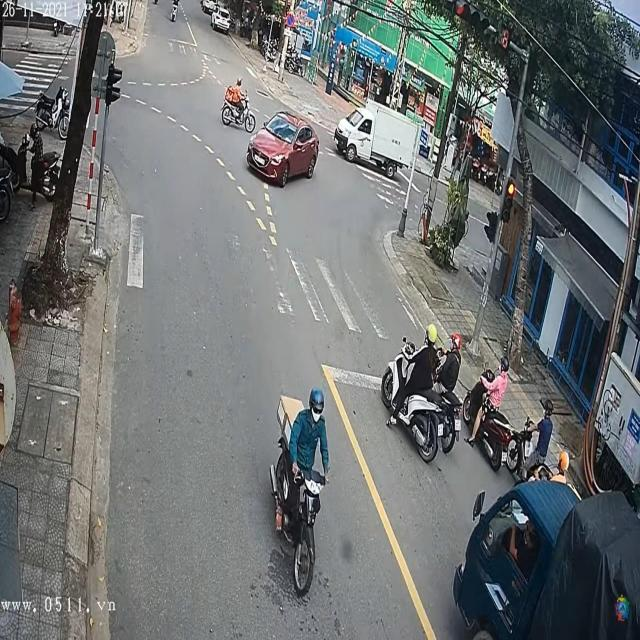car: (247, 114, 320, 189), (200, 0, 218, 14)
motorcycle: (385, 343, 450, 461), (284, 467, 326, 601), (465, 375, 516, 474), (220, 95, 256, 133)
truck: (333, 103, 425, 179)
